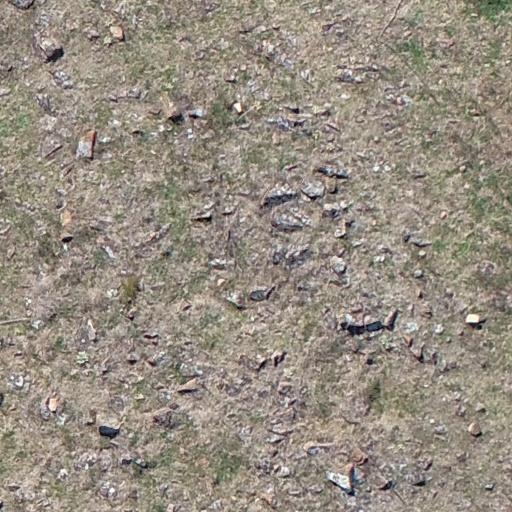stone: (271, 242, 311, 270), (325, 465, 357, 497), (33, 30, 63, 64), (137, 224, 173, 252), (334, 62, 378, 84), (266, 115, 310, 137), (261, 183, 298, 207), (262, 45, 296, 70), (317, 160, 361, 179), (269, 210, 307, 232), (252, 349, 287, 371), (75, 129, 98, 160), (406, 230, 438, 250), (96, 413, 122, 437), (83, 314, 100, 346), (462, 308, 489, 328), (300, 180, 326, 200), (40, 395, 60, 421), (11, 485, 38, 503), (40, 138, 63, 159), (192, 202, 216, 222), (50, 70, 74, 90), (320, 18, 346, 36), (385, 89, 412, 106), (303, 440, 333, 454), (89, 218, 115, 234), (249, 286, 275, 302), (178, 361, 202, 378), (176, 377, 200, 394), (152, 410, 174, 428), (225, 292, 247, 310), (350, 446, 369, 466), (73, 348, 90, 370), (268, 422, 294, 436), (182, 107, 210, 120), (7, 373, 27, 391), (108, 23, 128, 41), (200, 1, 221, 18), (384, 308, 399, 330), (329, 256, 347, 274), (119, 304, 142, 318), (404, 474, 430, 486), (340, 412, 362, 426), (207, 258, 232, 270), (334, 218, 348, 239), (468, 421, 485, 438), (276, 381, 294, 397), (254, 458, 272, 474), (122, 349, 142, 363), (156, 390, 174, 405), (103, 480, 118, 498), (59, 209, 73, 228), (146, 351, 162, 367), (126, 86, 144, 100), (274, 464, 292, 478), (259, 492, 277, 506), (176, 35, 195, 48), (322, 202, 342, 214), (253, 355, 268, 371), (214, 37, 230, 52), (262, 39, 276, 56), (300, 68, 314, 85), (239, 21, 257, 34), (326, 176, 339, 194), (410, 344, 424, 360), (176, 300, 192, 314), (266, 433, 286, 444), (84, 408, 96, 426), (142, 332, 160, 344), (376, 479, 394, 491), (348, 338, 362, 353), (437, 38, 456, 49), (85, 28, 101, 41), (325, 121, 341, 134), (281, 104, 301, 114), (103, 30, 114, 48), (482, 478, 496, 492), (403, 322, 419, 334), (436, 357, 448, 372), (218, 206, 240, 214), (5, 245, 16, 261), (126, 489, 139, 502), (455, 404, 467, 418), (159, 484, 171, 498), (232, 101, 246, 113), (410, 171, 428, 180), (201, 200, 215, 211), (224, 73, 238, 84), (30, 319, 44, 330), (363, 354, 375, 366), (456, 450, 468, 462), (403, 334, 413, 348), (434, 424, 448, 434), (372, 254, 386, 264), (308, 485, 323, 494), (55, 188, 68, 198), (474, 404, 487, 414), (283, 164, 299, 172), (8, 483, 22, 492), (356, 150, 370, 159), (148, 107, 162, 116), (131, 129, 145, 138), (107, 93, 119, 103), (412, 269, 424, 279), (423, 460, 433, 472), (402, 231, 412, 243), (120, 457, 133, 466), (430, 351, 438, 365), (288, 488, 301, 496), (271, 22, 281, 32), (434, 324, 444, 334), (440, 210, 448, 220), (134, 393, 144, 400), (459, 165, 467, 173)
